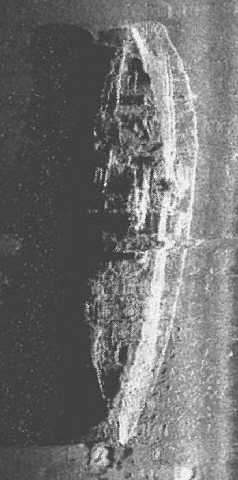ship: (75, 19, 198, 454)
